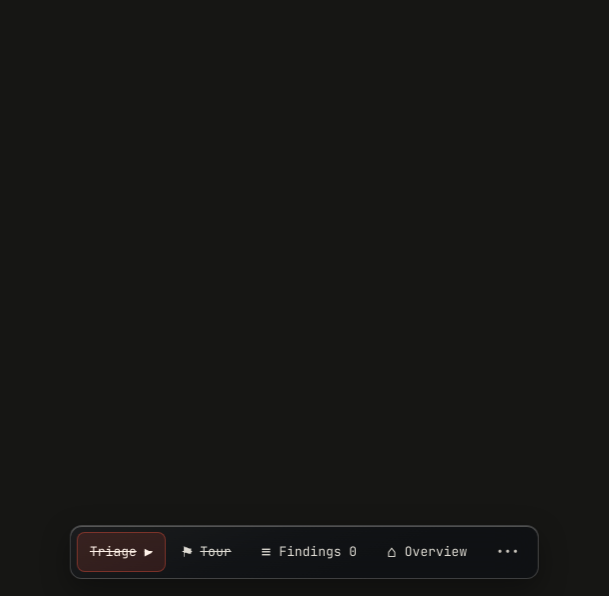
Test case: the update check answers what it actually found › the answer stands until the reader dismisses it
This screenshot has width=609, height=596.
Click the button with id "city-more-button" at (508, 552), box [484,532,531,572]
(page scrolled)
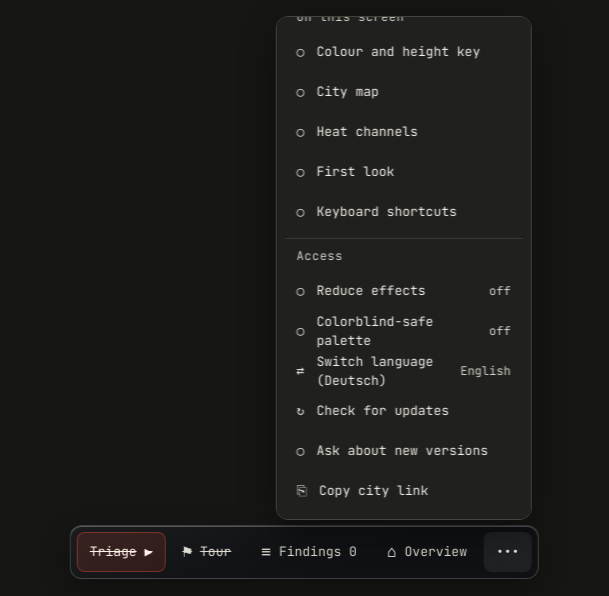
Check: the menu item "↻ Check for updates" is shown
Click the menu item "↻ Check for updates" at (403, 411), box [284,391,522,431]
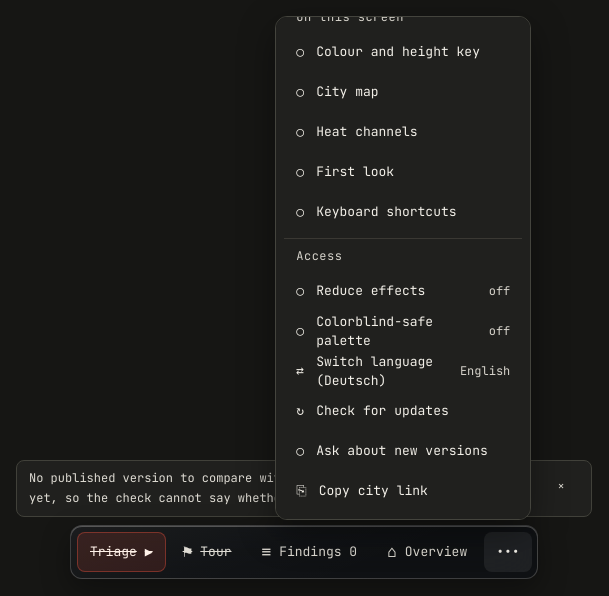
Check: the message is shown, box [16,460,592,517]
Check: the message shows "No published version", box [29,470,504,506]
Click the button "×" at (561, 487), box [543,469,579,505]
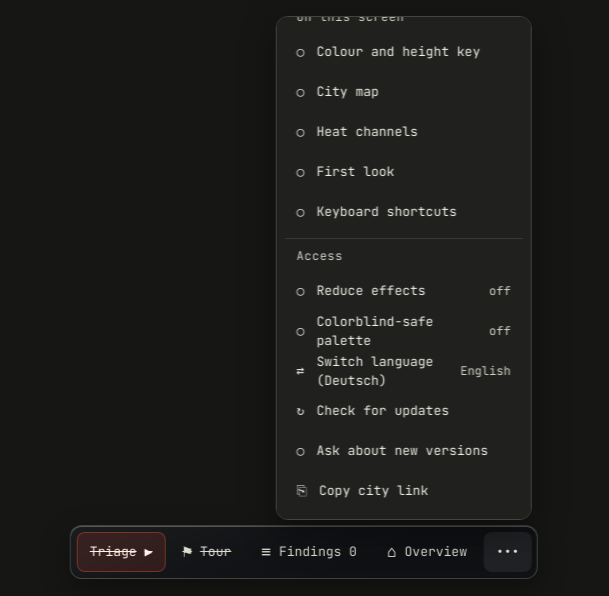
Check: the message is gone
